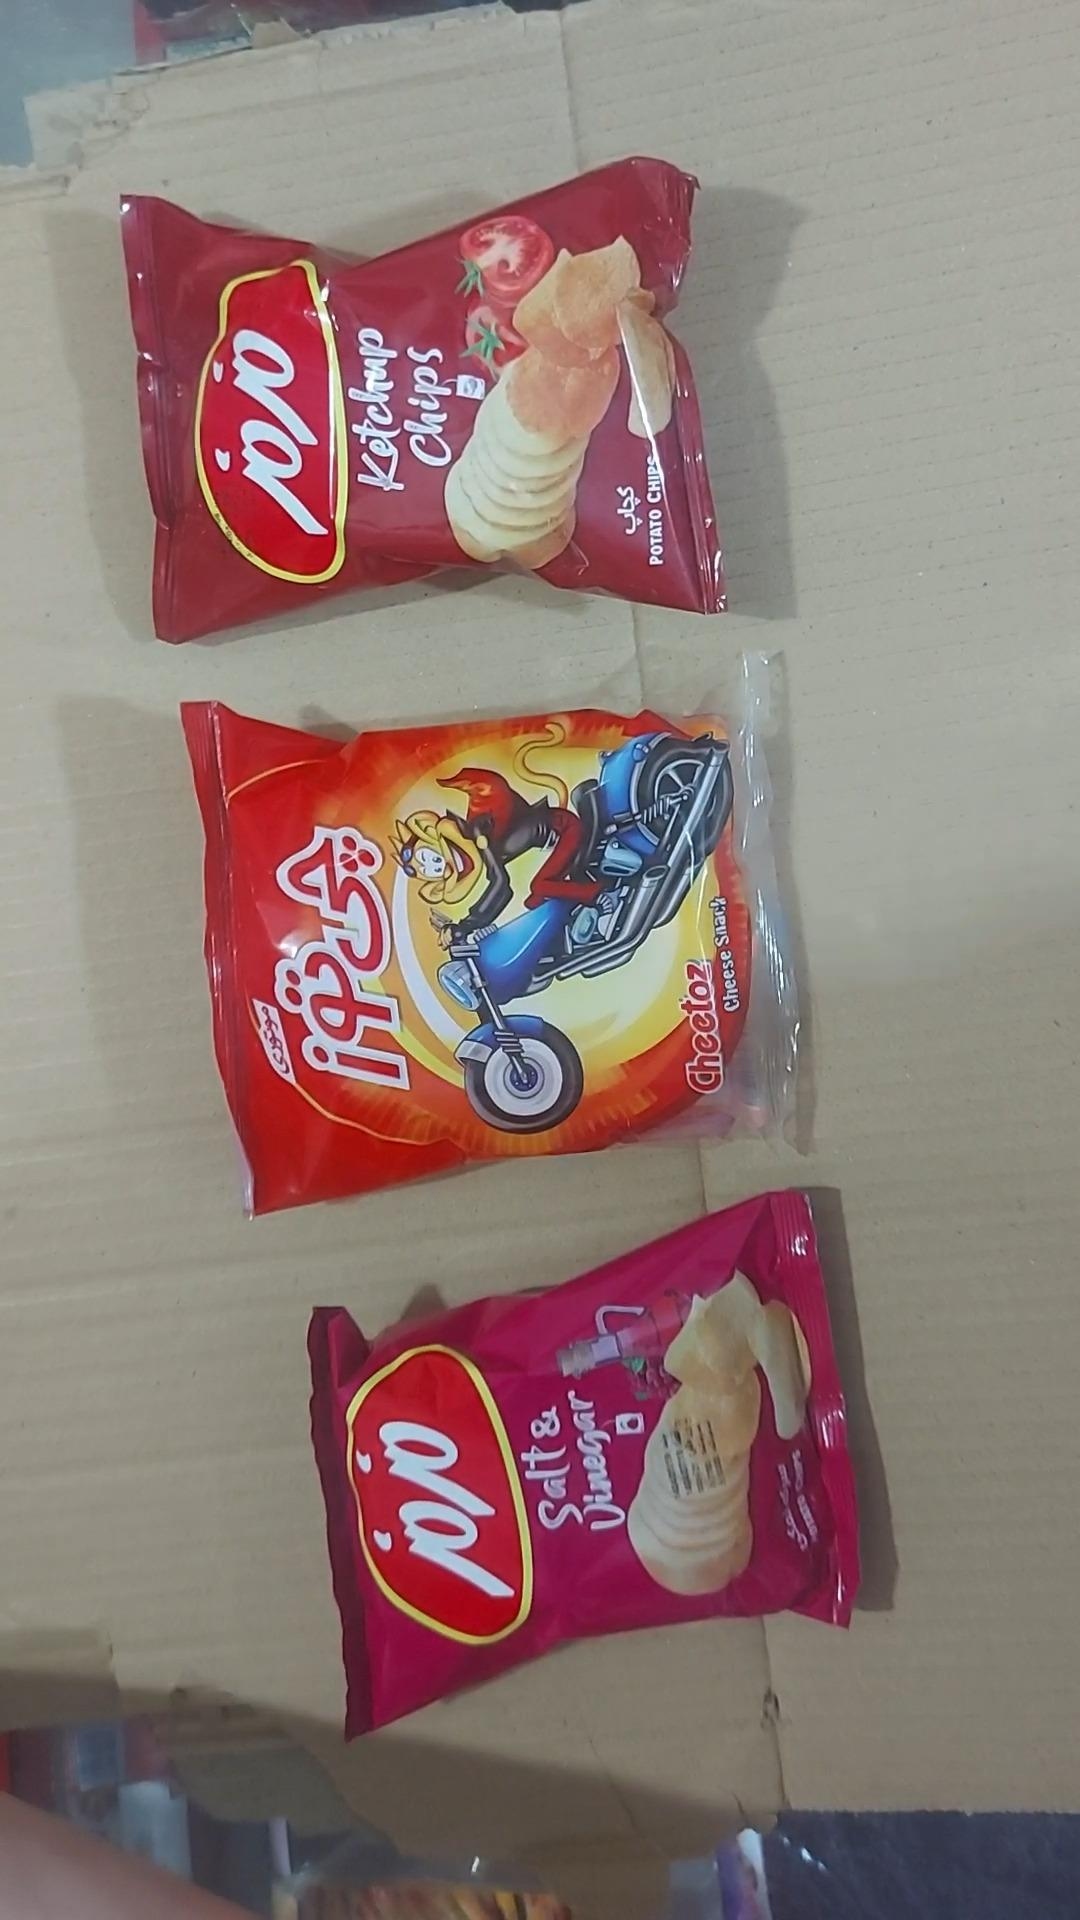Cheetoz snack 30g: (179, 650, 804, 1220)
Maz Maz ketchup chips: (119, 157, 727, 646)
Maz Maz vinegar chips: (305, 1191, 862, 1745)
